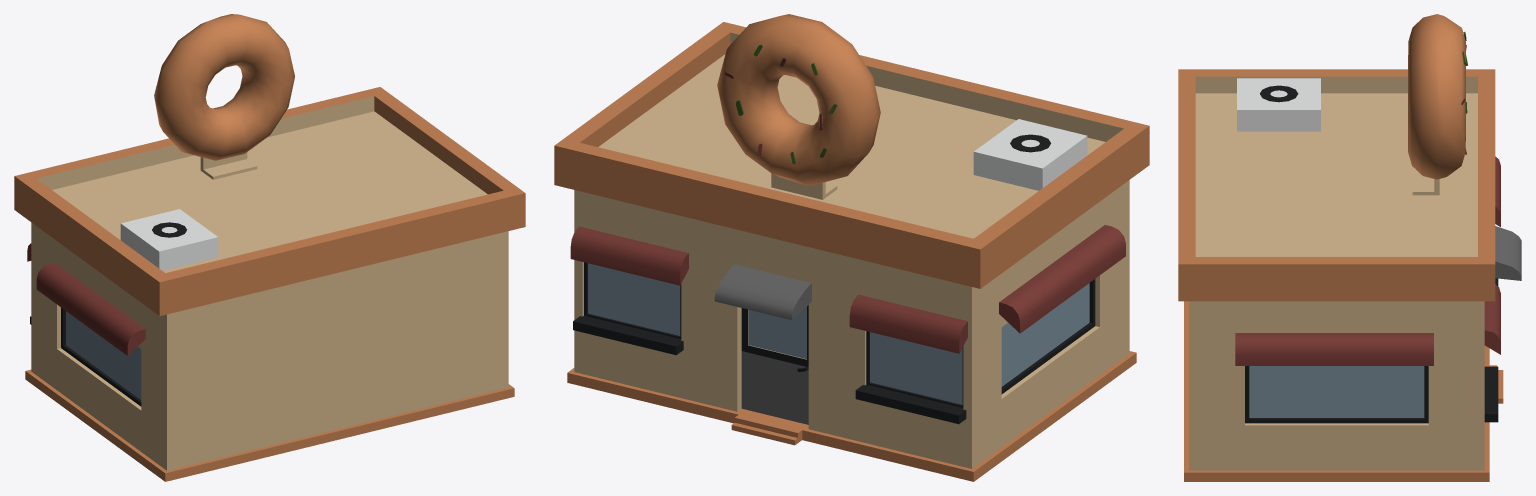
File: donut.fbx
3 renders of one model, left to right at view 1: azimuth 30°, elevation 25°; view 2: azimuth 150°, elevation 25°; view 3: azimuth 270°, elevation 25°, orthographic. The views are drawn at different scales.
Parts seen in each view (by area): view 1: donut; view 2: donut; view 3: donut.
Part boxes in pixels (left/top/right/bottom): donut: left=14, top=14, right=525, bottom=481; donut: left=554, top=14, right=1149, bottom=481; donut: left=1178, top=14, right=1521, bottom=481.
Size of the model in its own units: 980 by 839 by 711.
